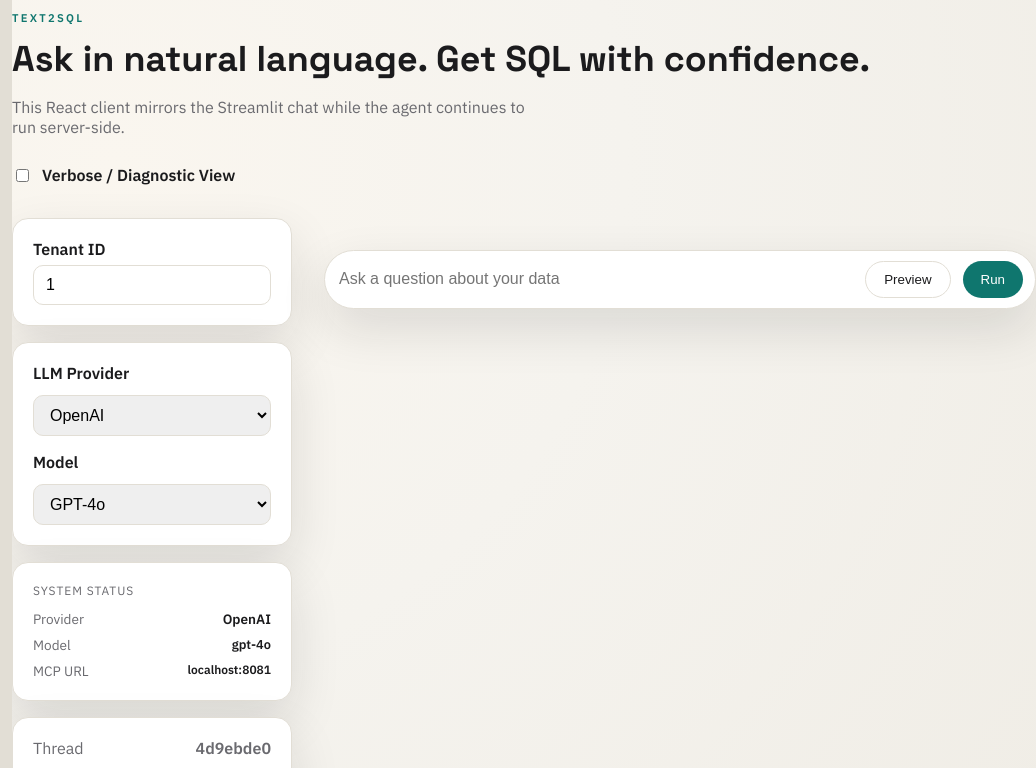
Test: AgentChat models › updates model options when provider changes
Expected: the dropdown labelled "Model" shows "GPT-4o", [33,484,271,525]
Select "Anthropic" in the dropdown labelled "LLM Provider" at (152, 415), box [33,395,271,436]
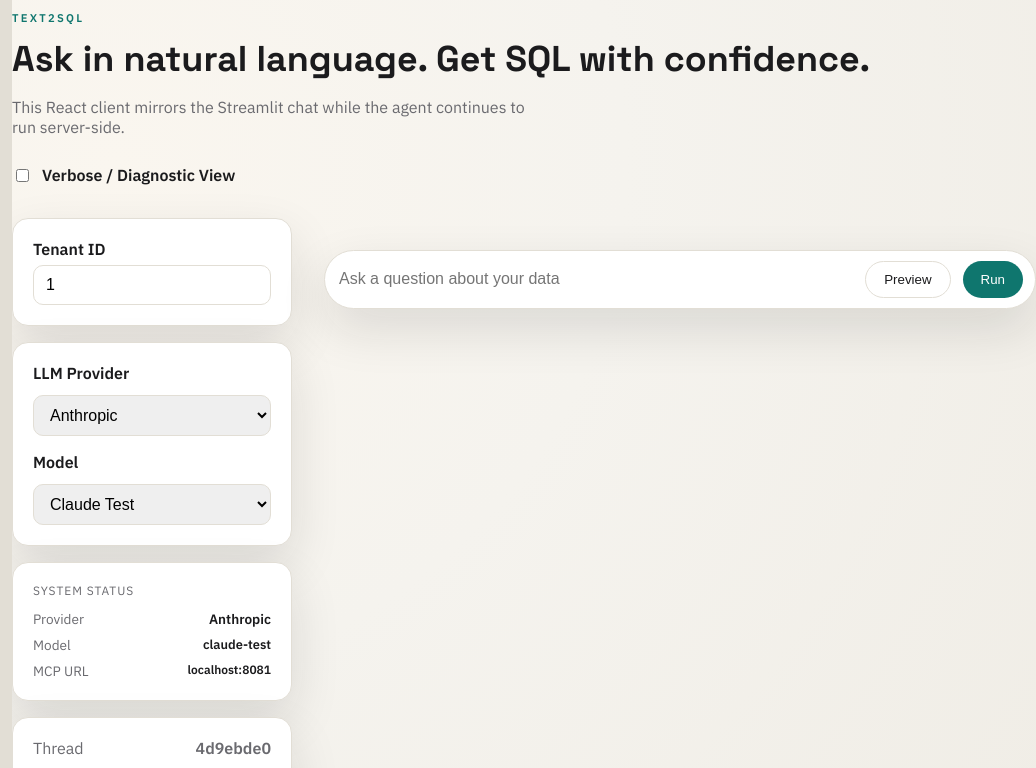
Expected: the dropdown labelled "Model" shows "Claude Test", [33,484,271,525]
